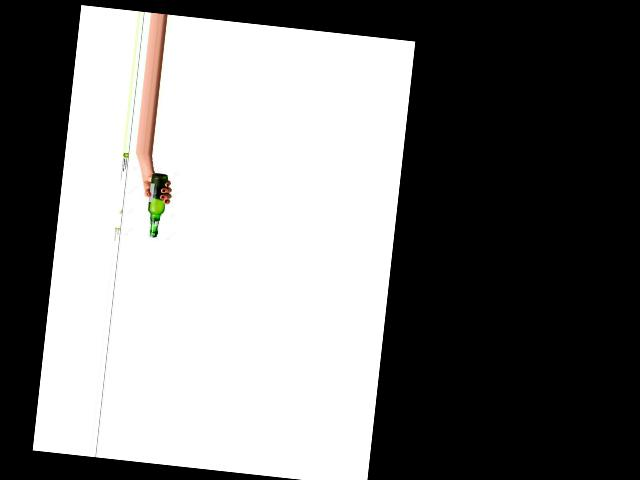beer: (144, 172, 167, 238)
